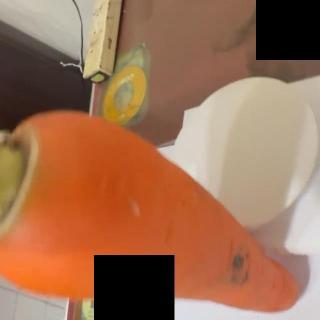carrot: (0, 112, 298, 314)
